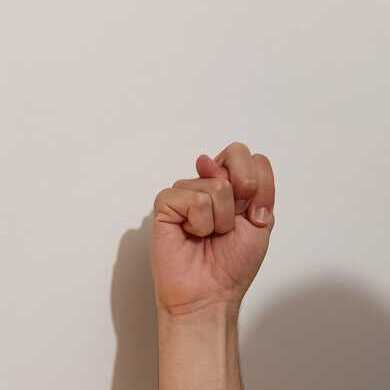N: (151, 142, 277, 317)
